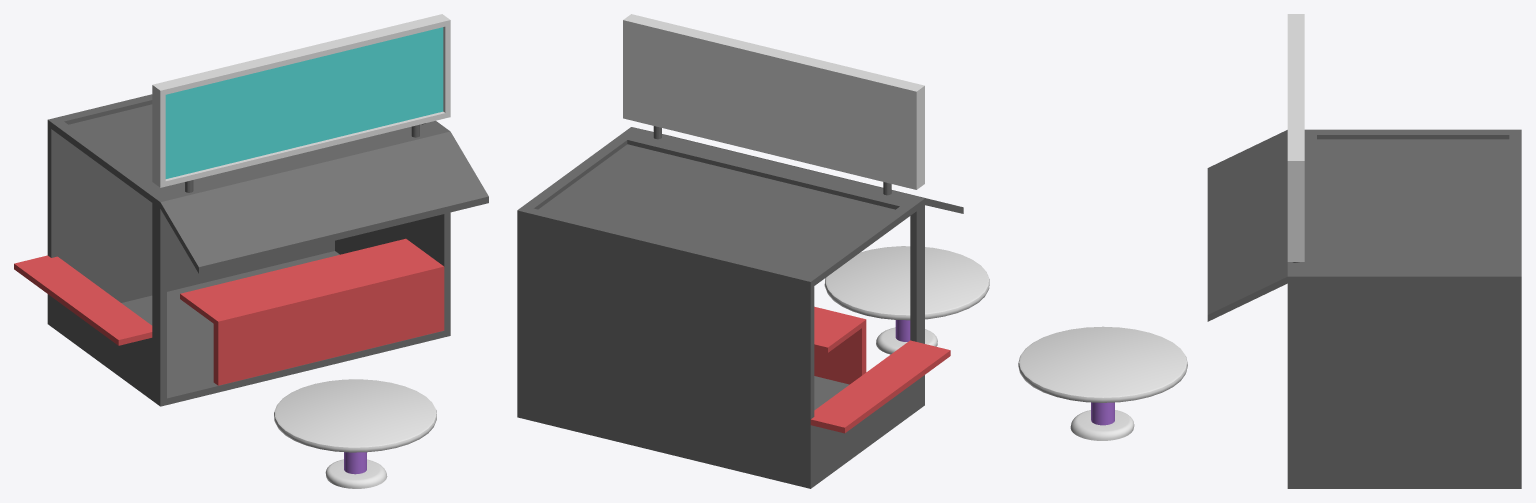
Rendered from cafe.fbx.
3 renders of one model, left to right at view 1: azimuth 30°, elevation 25°; view 2: azimuth 150°, elevation 25°; view 3: azimuth 270°, elevation 25°, orthographic. The views are drawn at different scales.
Visible parts, largest first — view 1: Cube.001, Cylinder; view 2: Cube.001, Cylinder; view 3: Cube.001, Cylinder.
Part boxes in pixels (bbox=[...]): Cube.001: bbox=[14, 14, 488, 406]; Cylinder: bbox=[274, 379, 436, 488]; Cube.001: bbox=[517, 14, 963, 488]; Cylinder: bbox=[824, 246, 989, 354]; Cube.001: bbox=[1207, 14, 1521, 488]; Cylinder: bbox=[1018, 326, 1187, 440].
Bounding box in the file's own units: 3477 × 3552 × 4510.
